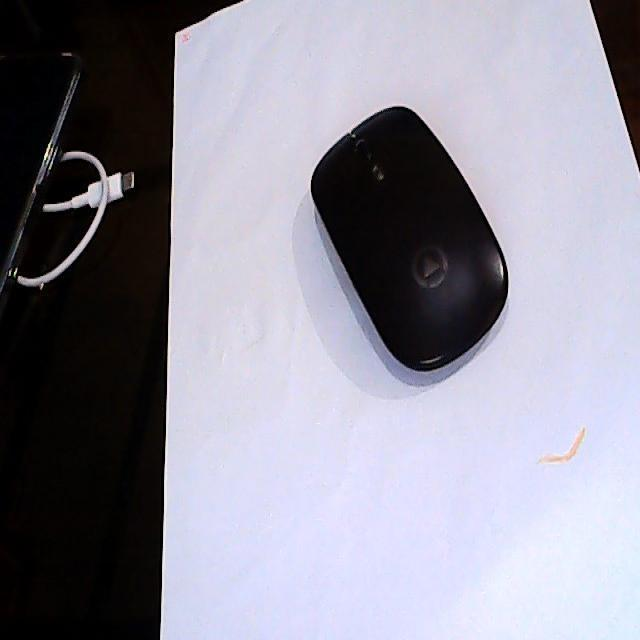Mouse: (308, 102, 511, 374)
